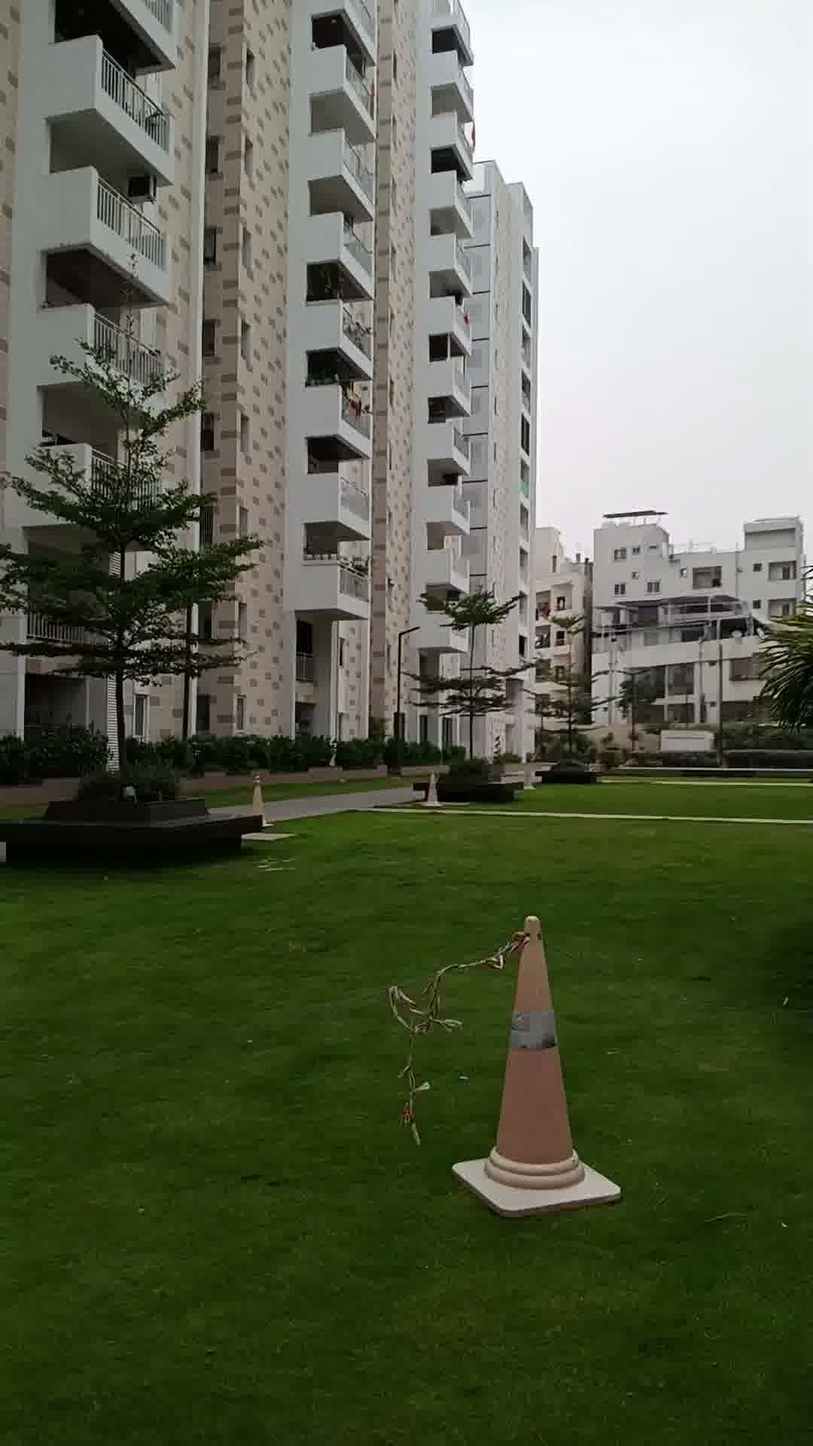tree: (3, 305, 259, 763), (401, 564, 529, 763), (543, 635, 629, 786)
